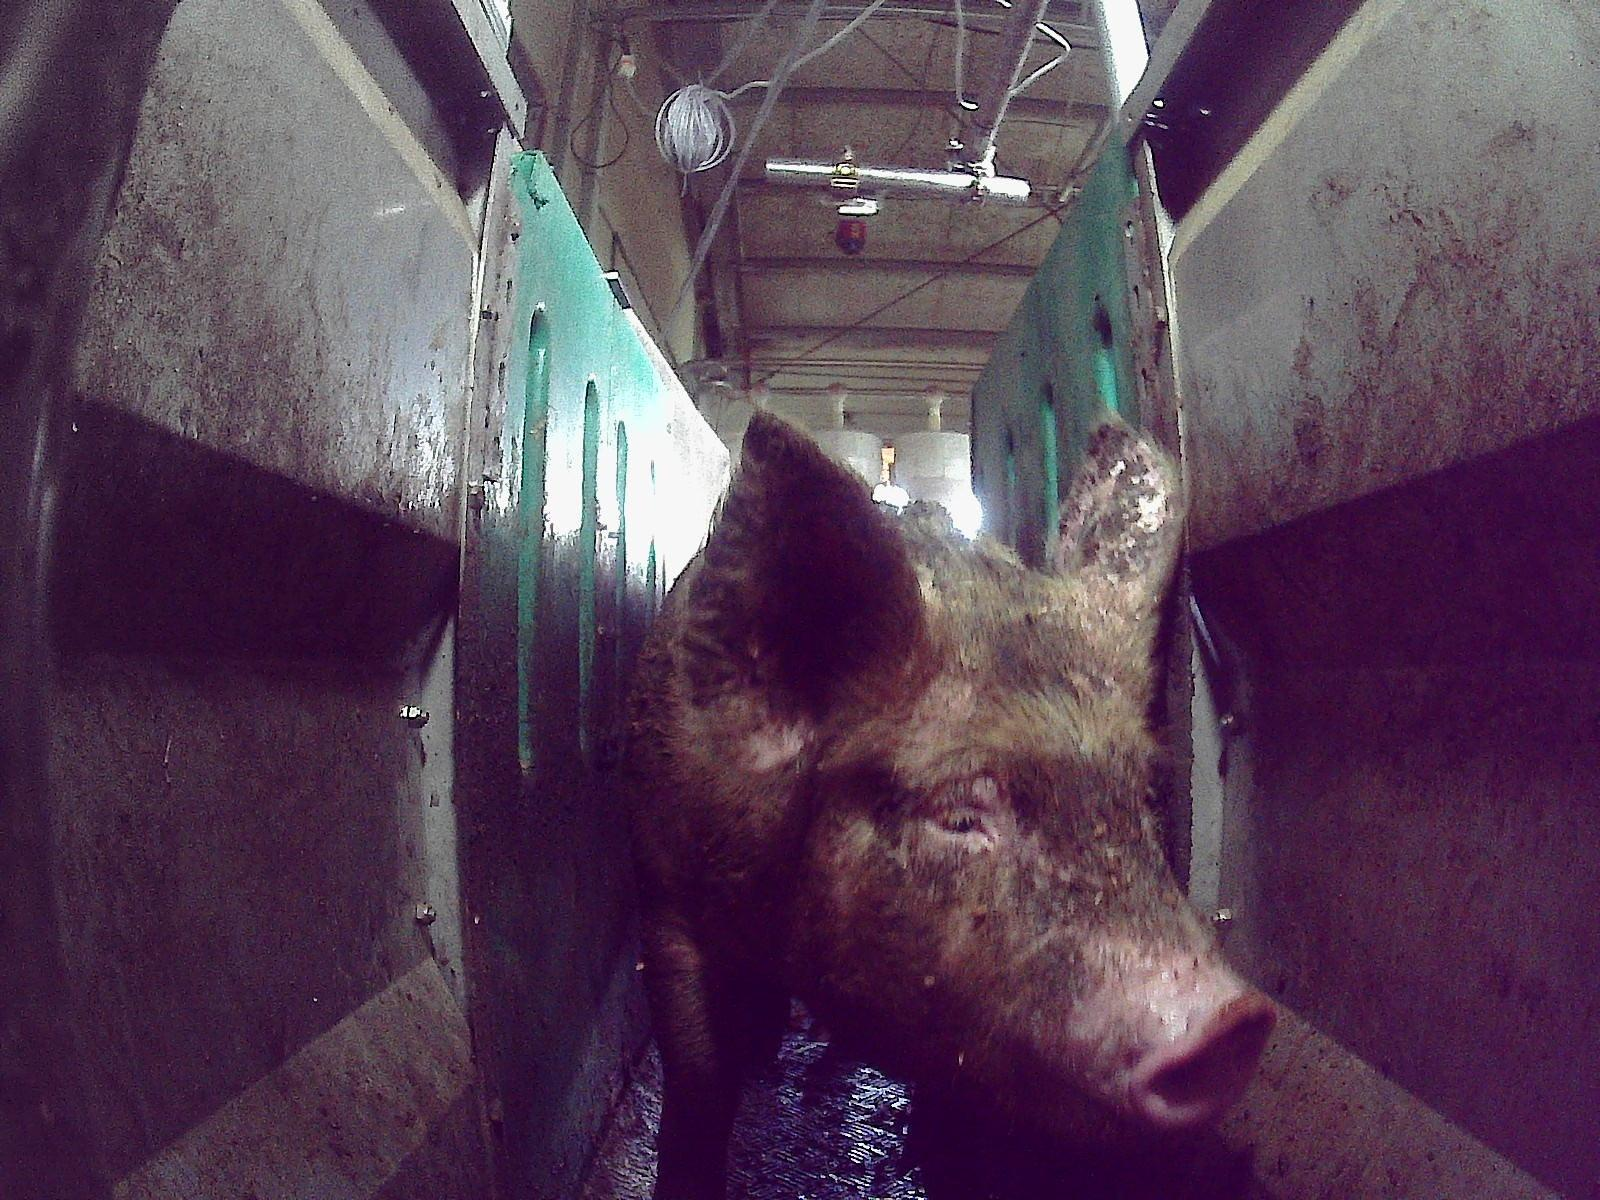Face: (744, 535, 1269, 1154)
